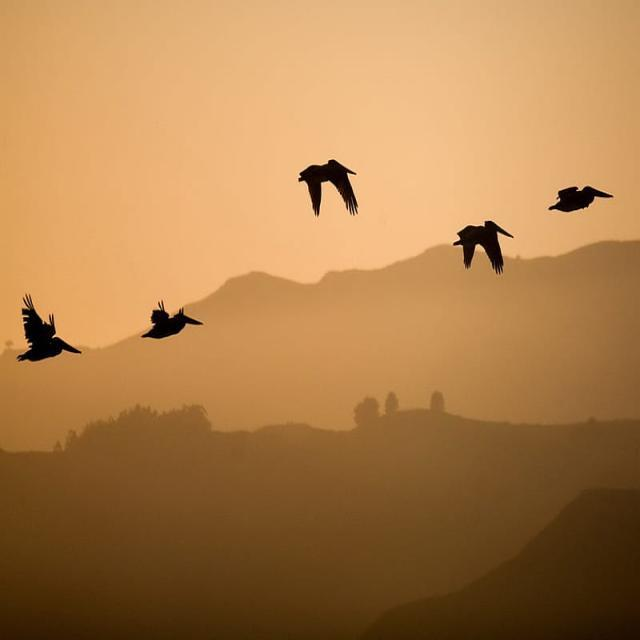bird: (3, 258, 110, 406), (137, 242, 240, 380), (439, 196, 526, 292), (284, 134, 372, 227), (536, 166, 634, 231)
